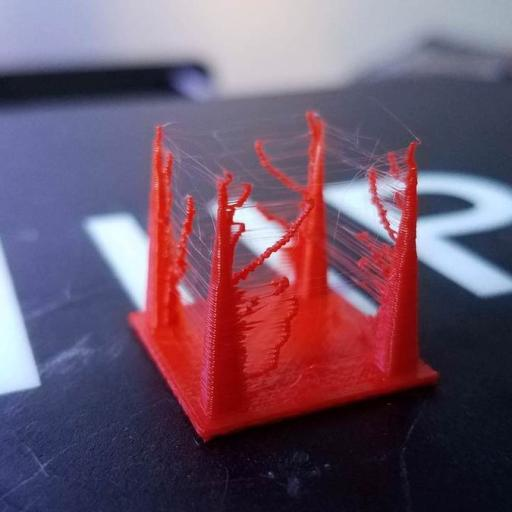stringing: (146, 110, 408, 326)
